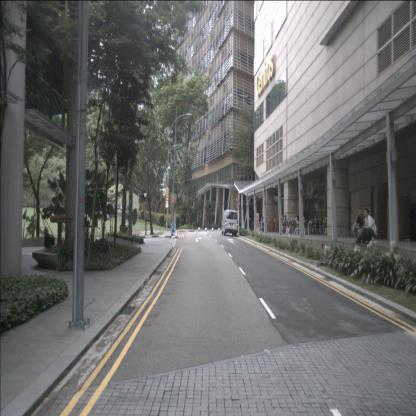human-pedestrian-adult: (362, 208, 377, 245), (352, 209, 366, 243)
vehicle-car: (221, 209, 238, 237)
